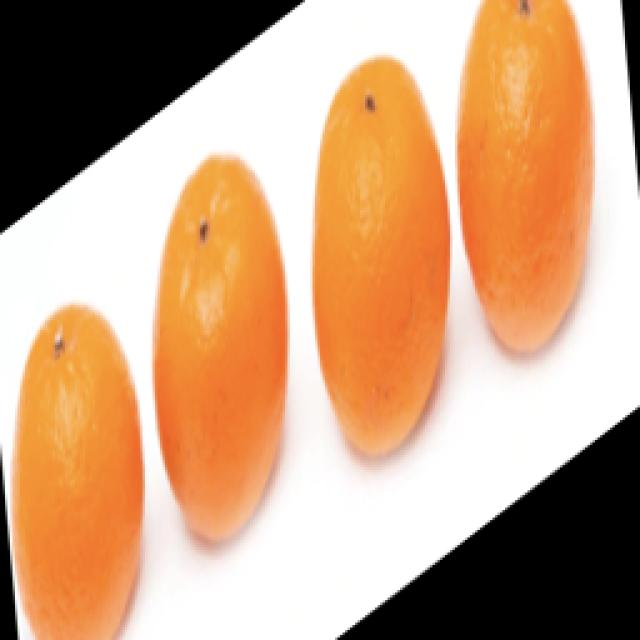Fresh_Orange: (10, 243, 152, 635)
